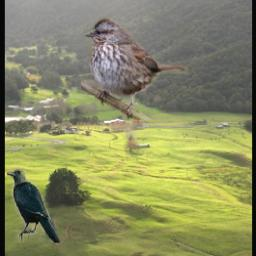Crow: (8, 167, 61, 243)
Sparrow: (82, 15, 189, 121)
